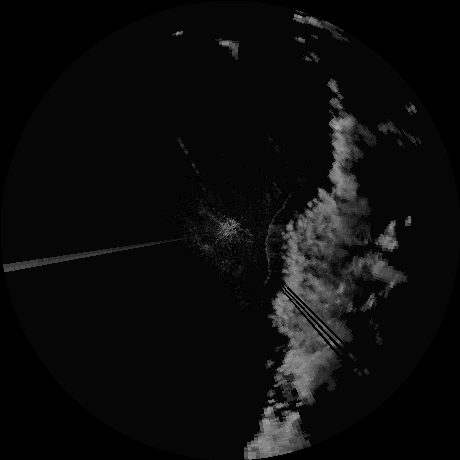frontgust: (262, 200, 284, 282)
